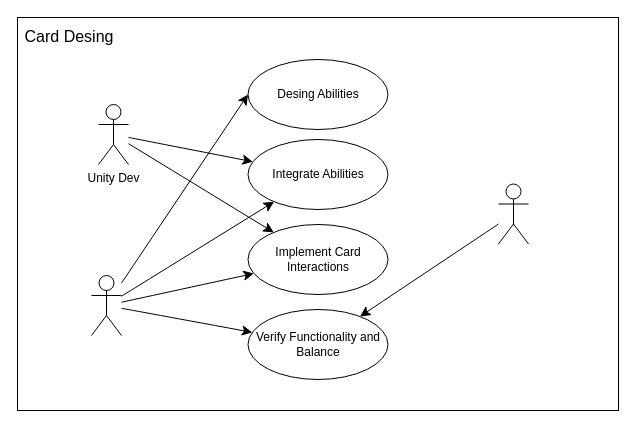
Image size: 636x428. Some labels were removed from this diagram. Each missing label, with the centre of its shape:
Team: (x=106, y=305)
User: (x=513, y=213)
